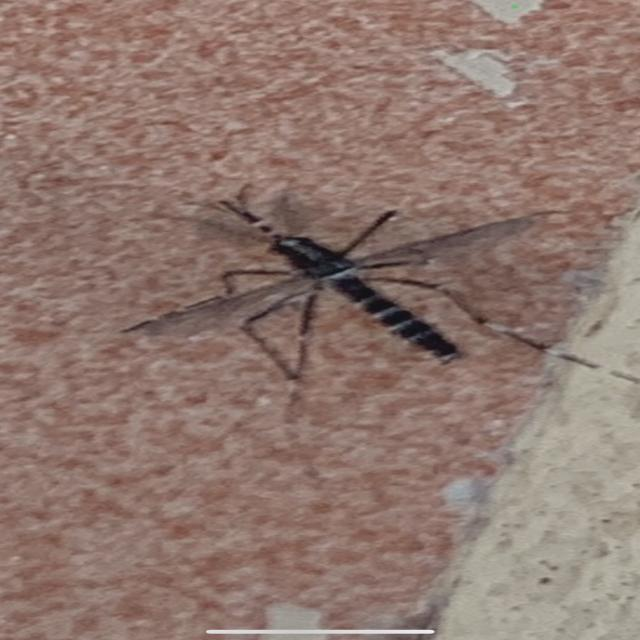albopictus: (116, 169, 618, 395)
